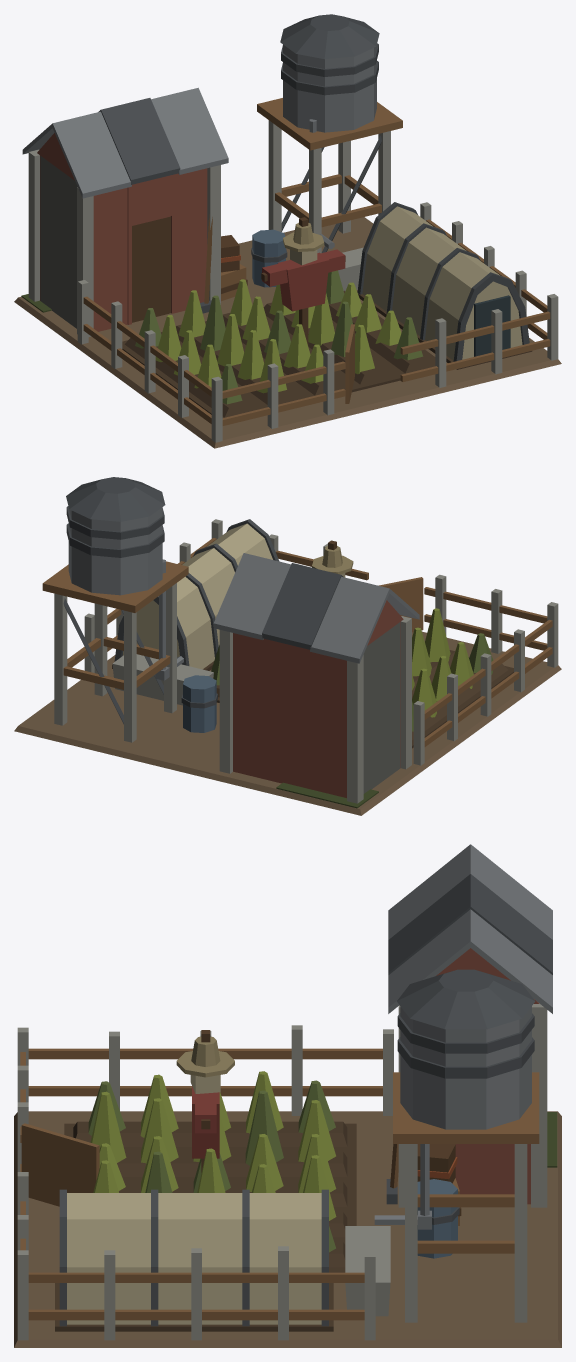
File: farm_l2.glb
3 renders of one model, top to bottom at view 1: azimuth 30°, elevation 25°; view 2: azimuth 150°, elevation 25°; view 3: azimuth 270°, elevation 25°, orthographic. The views are drawn at different scales.
Visible parts, largest first — view 1: farm_structure, farm_props, farm_roof; view 2: farm_structure, farm_props, farm_roof; view 3: farm_props, farm_structure, farm_roof.
Boxes of the visible parts, left/top/right/bottom form: farm_structure: left=14, top=98, right=561, bottom=448; farm_props: left=77, top=14, right=558, bottom=442; farm_roof: left=22, top=87, right=529, bottom=361; farm_structure: left=14, top=561, right=561, bottom=815; farm_props: left=66, top=477, right=558, bottom=765; farm_roof: left=114, top=519, right=419, bottom=669; farm_props: left=17, top=969, right=535, bottom=1340; farm_structure: left=14, top=948, right=561, bottom=1347; farm_roof: left=59, top=844, right=552, bottom=1326.
Size of the model in its own units: 6 by 3.9 by 6.
